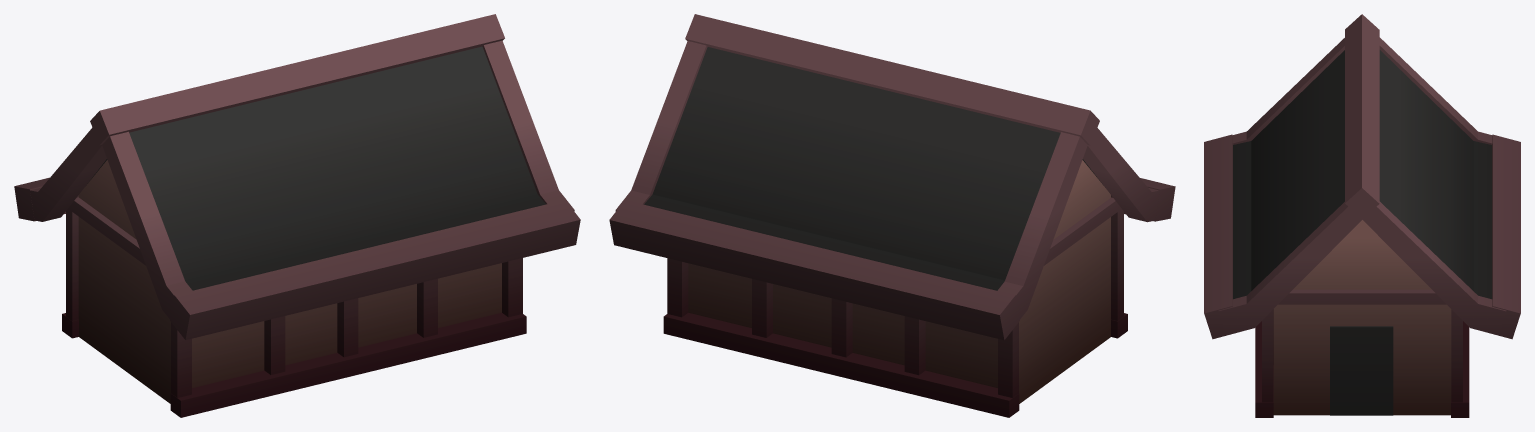
The model's file is Rumah 2.fbx.
3 renders of one model, left to right at view 1: azimuth 30°, elevation 25°; view 2: azimuth 150°, elevation 25°; view 3: azimuth 270°, elevation 25°, orthographic. The views are drawn at different scales.
Visible parts, largest first — view 1: Plane, Plane.001, Cube.017, Plane.003, Cube.011, Cube, Cube.007, Cube.013, Cube.008, Cube.016, Cube.004, Cube.006 (+2 smaller); view 2: Plane, Plane.001, Cube.010, Plane.003, Cube.011, Cube.014, Cube.008, Cube.013, Cube.007, Cube.002, Cube.015, Cube.005 (+2 smaller); view 3: Plane, Plane.001, Plane.003, Cube.011, Plane.002, Cube.010, Cube.017, Cube.012, Cube.005, Cube.006, Cube, Cube.014.
Boxes of the visible parts, box(x1,y1,x2,y2) form: Plane: box(86, 46, 545, 290); Plane.001: box(78, 160, 501, 403); Cube.017: box(170, 200, 580, 340); Plane.003: box(30, 40, 574, 318); Cube.011: box(90, 14, 504, 145); Cube: box(170, 312, 526, 417); Cube.007: box(66, 195, 78, 320); Cube.013: box(68, 197, 145, 265); Cube.008: box(171, 322, 191, 397); Cube.016: box(337, 298, 358, 357); Cube.004: box(264, 316, 285, 374); Cube.006: box(502, 258, 522, 317); Plane: box(644, 47, 1103, 290); Plane.001: box(688, 160, 1110, 403); Cube.010: box(609, 200, 1019, 340); Plane.003: box(615, 41, 1159, 319); Cube.011: box(685, 14, 1099, 145); Cube.014: box(663, 313, 1019, 417); Cube.008: box(1111, 195, 1123, 320); Cube.013: box(1044, 197, 1121, 265); Cube.007: box(998, 322, 1018, 397); Cube.002: box(904, 316, 925, 375); Cube.015: box(831, 298, 852, 357); Cube.005: box(667, 258, 688, 317); Plane: box(1233, 50, 1491, 299); Plane.001: box(1273, 220, 1451, 415); Plane.003: box(1218, 37, 1506, 335); Cube.011: box(1345, 14, 1379, 218); Plane.002: box(1330, 326, 1393, 415); Cube.010: box(1492, 134, 1520, 339); Cube.017: box(1204, 134, 1232, 339); Cube.012: box(1278, 289, 1446, 304); Cube.005: box(1451, 309, 1462, 402); Cube.006: box(1262, 309, 1273, 402); Cube: box(1255, 321, 1273, 417); Cube.014: box(1451, 321, 1469, 417).
Size of the model in its own units: 357 by 232 by 274.
